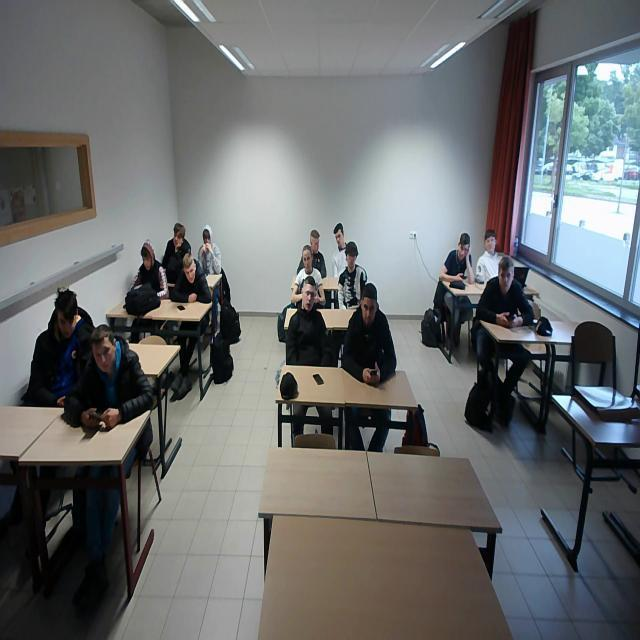Looking away: (140, 255, 154, 271)
Looking forward: (302, 282, 316, 312), (344, 252, 358, 270), (184, 264, 197, 283), (302, 251, 313, 272)
Phone use: (66, 324, 168, 438), (23, 288, 96, 408), (339, 288, 407, 388), (481, 255, 537, 330), (438, 232, 478, 290)
